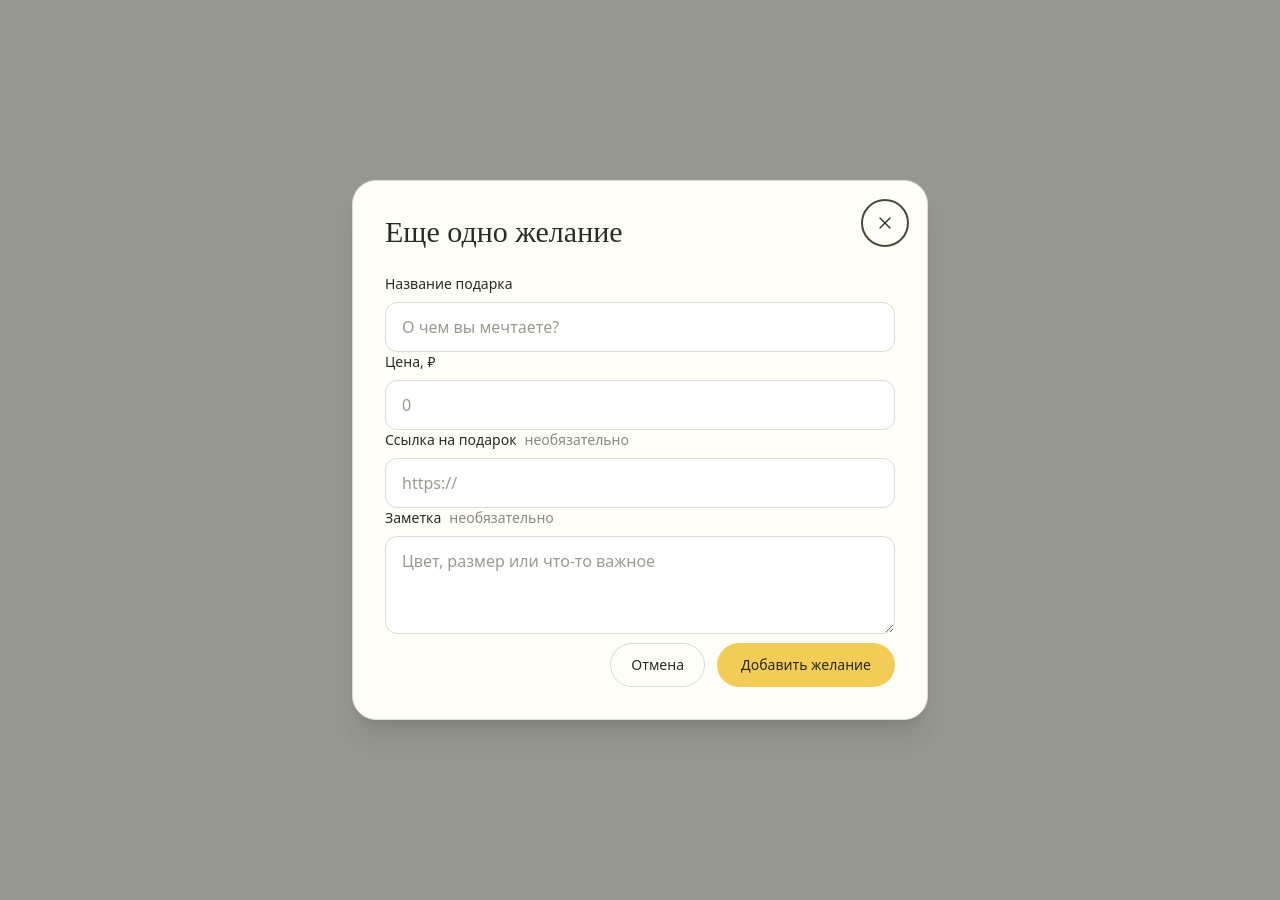
Test: gift form validation and failed saves › never sends invalid mandatory price
Type "Тестовый подарок" into the field labelled "Название подарка".
click(640, 327); type("Тестовый подарок")  # box [385,302,895,352]
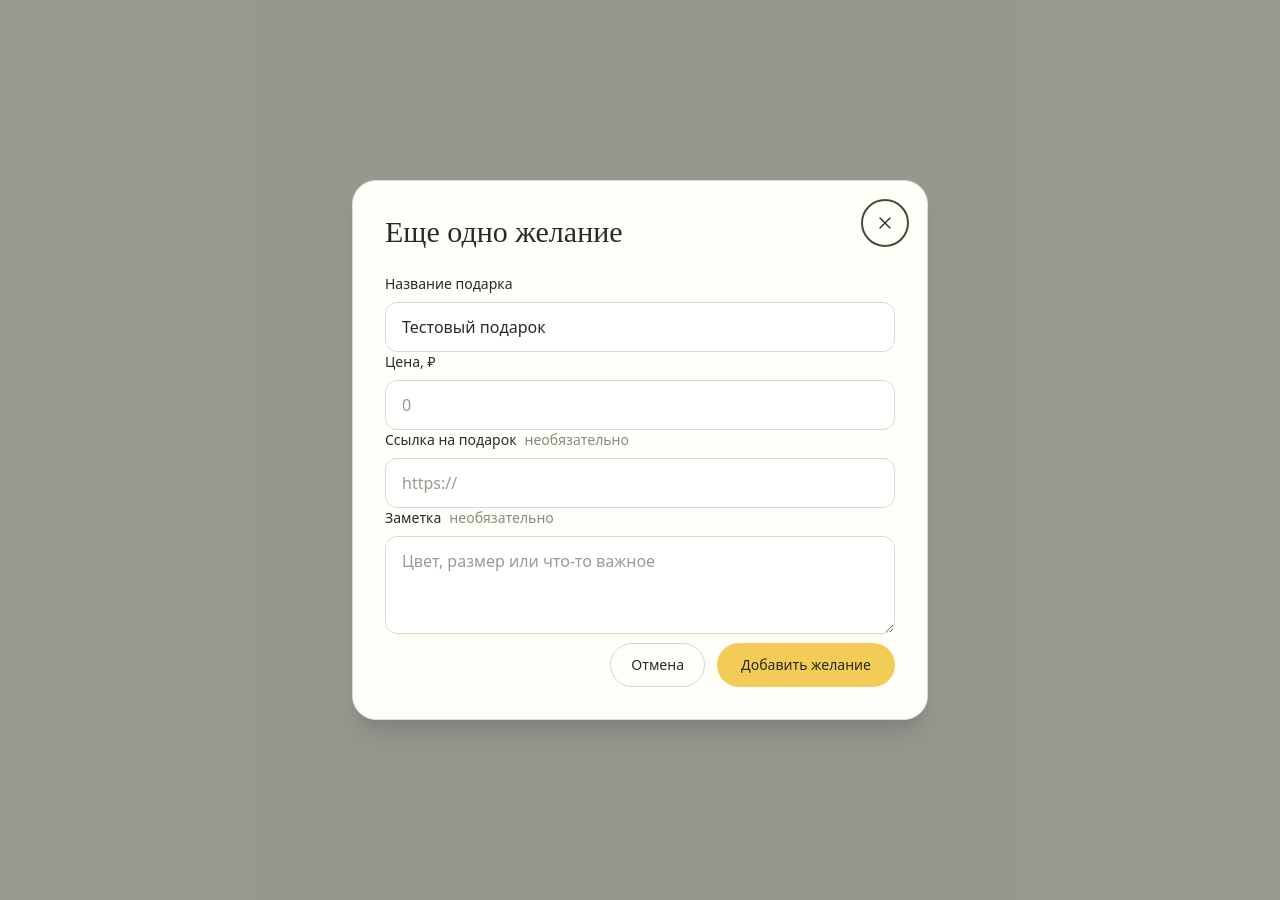
Submit the form named "Добавить желание", box [385,274,895,687]
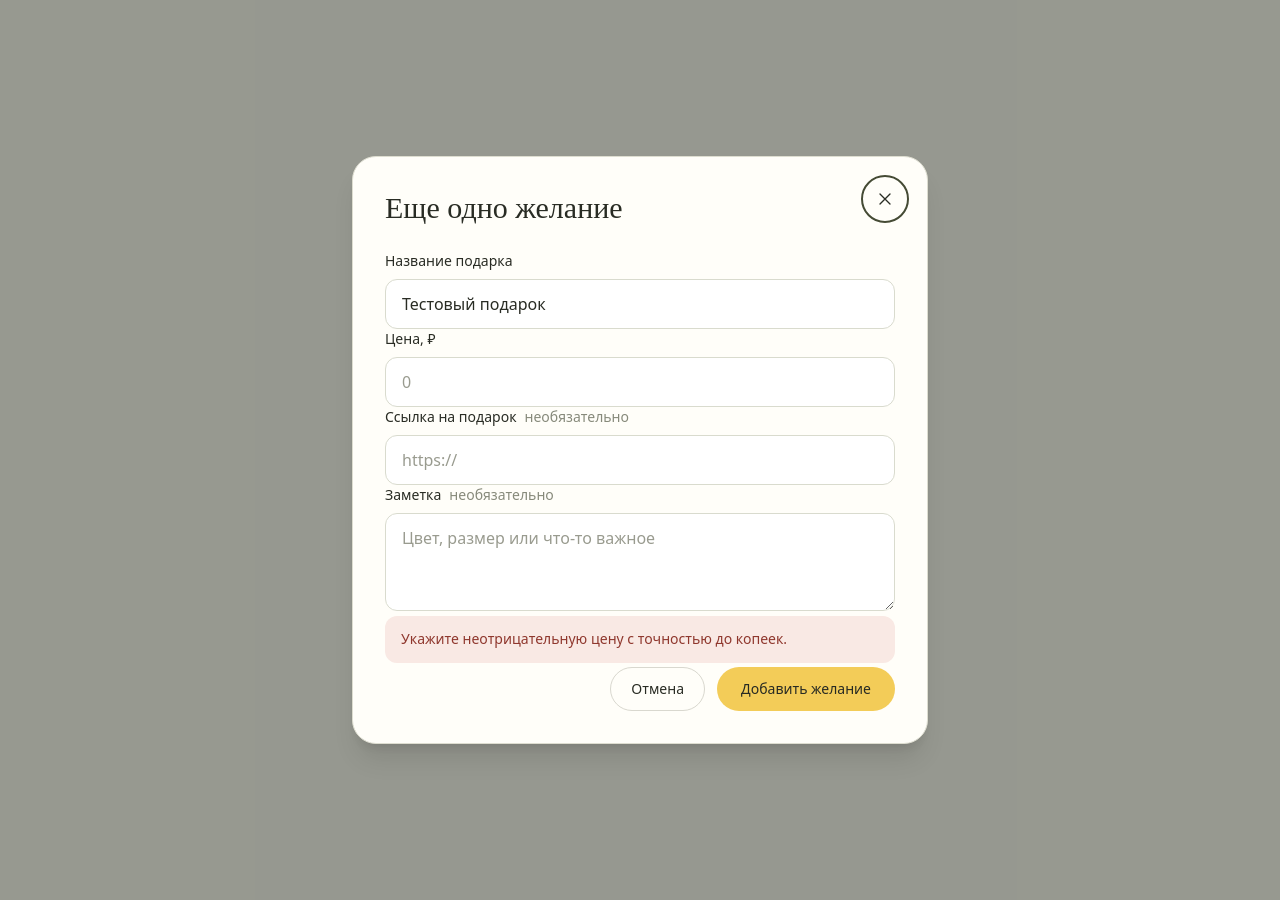
Now the message shows "Укажите неотрицательную цену", box [401,629,787,648]
